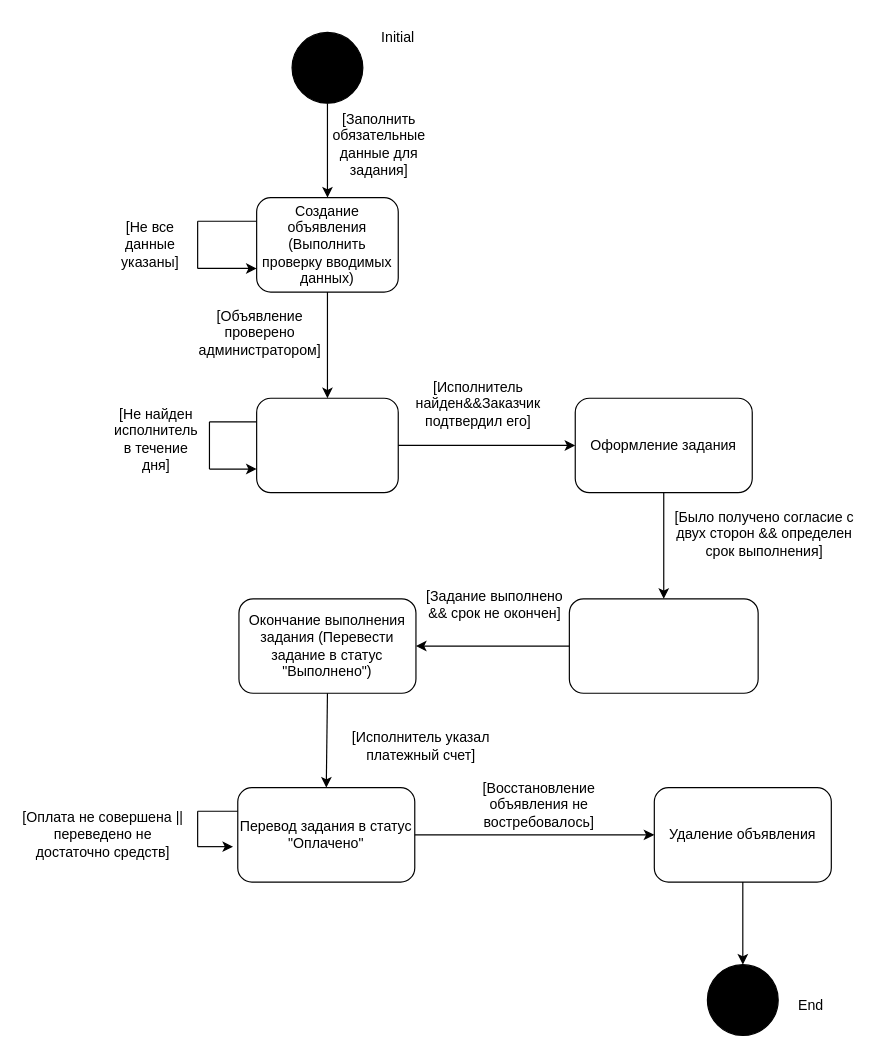
Image size: 878x1056. Some labels were removed from this diagram. The shapes that lost their labels are listed below. From the top down, each one's centre as x and y in pixels, then its label:
point 326,445: Ожидание исполнителя
point 663,645: Начало выполнения задания (Перевести задание в статус "В процессе")
